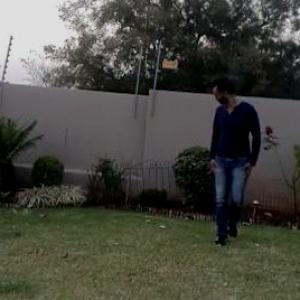follow: (205, 62, 265, 258)
